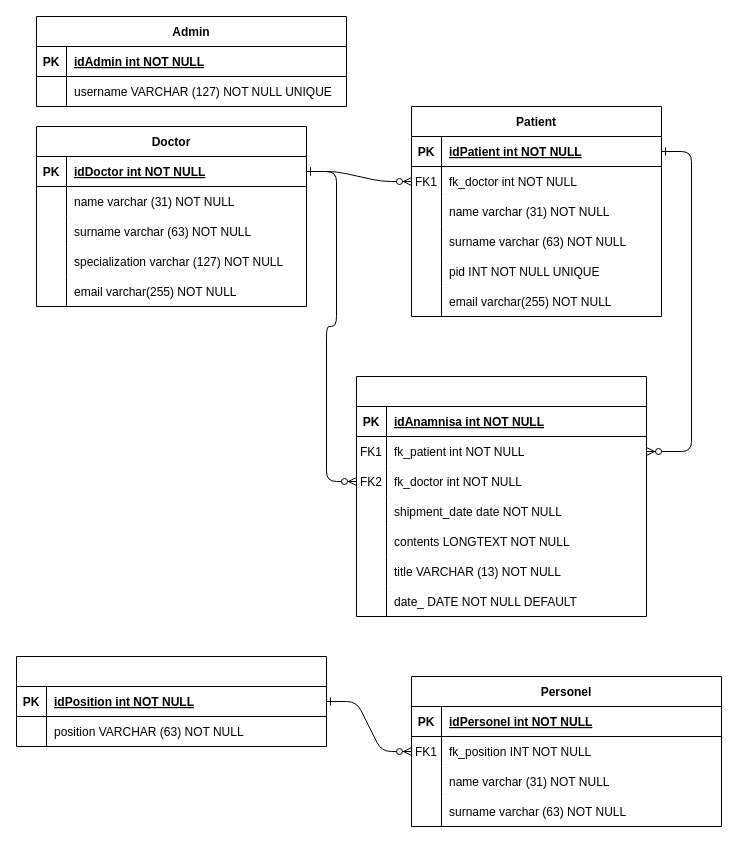
Image size: 738x843. Some labels were removed from this diagram. The shapes that lost their labels are listed below. From the top down, each one's box as (x1, y1, x2, y2) in pixels, then its label:
(356, 376, 646, 616): Anamnesis
(16, 656, 326, 746): Positions
